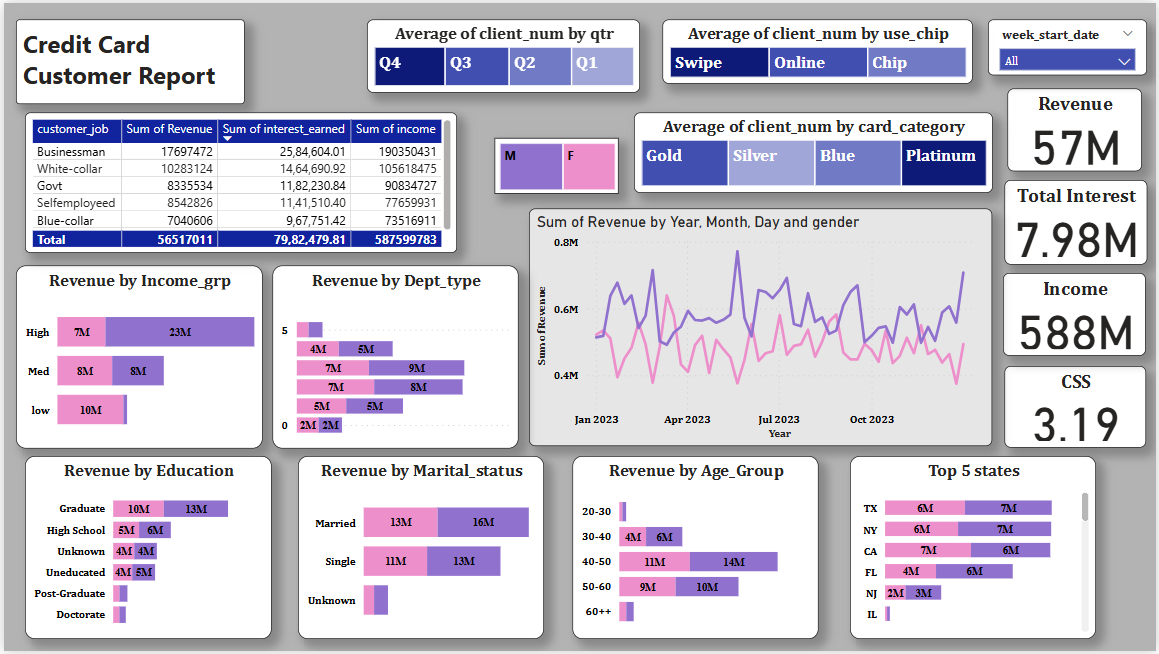

What the dashboard file says about the page in this screenshot:
{"tool":"powerbi","page":{"name":"cc_customer","canvas":[1280,720],"ordinal":2},"visuals":[{"type":"textbox","box":[12.7,19.1,254.3,93.8],"z":0},{"type":"barChart","title":"Revenue by Income_grp","fields":{"Category":["public cust_detail.IncomeGroup"],"Y":["Sum(public cc_detail.Revenue)"],"Series":["public cust_detail.gender"]},"box":[12.7,290.9,274,203.4],"z":1000},{"type":"card","title":"Revenue","fields":{"Values":["Sum(public cc_detail.Revenue)"]},"box":[1114.2,95.4,149.4,92.2],"z":2000},{"type":"card","title":"CSS","fields":{"Values":["Avg(public cust_detail.cust_satisfaction_score)"]},"box":[1111,403.7,157.4,90.6],"z":3000},{"type":"card","title":"Total Interest","fields":{"Values":["Sum(public cc_detail.interest_earned)"]},"box":[1111,197.1,158.9,93.8],"z":4000},{"type":"card","title":"Income","fields":{"Values":["Sum(public cust_detail.income)"]},"box":[1109.4,300.4,158.9,92.2],"z":5000},{"type":"slicer","fields":{"Values":["public cc_detail.week_start_date"]},"box":[1093.5,19.1,176.4,62],"z":6000},{"type":"treemap","fields":{"Group":["public cc_detail.card_category"],"Values":["Avg(public cc_detail.client_num)"]},"box":[699.3,122.4,398.9,89],"z":7000},{"type":"tableEx","fields":{"Values":["public cust_detail.customer_job","Sum(public cc_detail.Revenue)","Sum(public cc_detail.interest_earned)","Sum(public cust_detail.income)"]},"box":[23.8,122.4,480,155.8],"z":8000},{"type":"lineChart","fields":{"Y":["Sum(public cc_detail.Revenue)"],"Series":["public cust_detail.gender"],"Category":["public cc_detail.week_start_date.Variation.Date Hierarchy.Year","public cc_detail.week_start_date.Variation.Date Hierarchy.Month","public cc_detail.week_start_date.Variation.Date Hierarchy.Day"]},"box":[583.3,228.9,515,263.8],"z":9000},{"type":"treemap","fields":{"Group":["public cust_detail.gender"],"Values":["Sum(public cc_detail.Revenue)"]},"box":[545.2,149.4,138.3,62],"z":10000},{"type":"barChart","title":"Revenue by Age_Group","fields":{"Y":["Sum(public cc_detail.Revenue)"],"Category":["public cust_detail.AgeGroup"],"Series":["public cust_detail.gender"]},"box":[631,503.8,273.4,203.4],"z":11000},{"type":"barChart","title":"Revenue by Education","fields":{"Y":["Sum(public cc_detail.Revenue)"],"Category":["public cust_detail.education_level"],"Series":["public cust_detail.gender"]},"box":[23.8,503.8,274,203.4],"z":12000},{"type":"barChart","title":"Revenue by Dept_type","fields":{"Y":["Sum(public cc_detail.Revenue)"],"Category":["public cust_detail.dependent_count"],"Series":["public cust_detail.gender"]},"box":[298.8,290.9,273.4,203.4],"z":13000},{"type":"barChart","title":"Top 5 states","fields":{"Y":["Sum(public cc_detail.Revenue)"],"Category":["public cust_detail.state_cd"],"Series":["public cust_detail.gender"]},"box":[939.3,503.8,273.4,203.4],"z":14000},{"type":"barChart","title":"Revenue by Marital_status","fields":{"Y":["Sum(public cc_detail.Revenue)"],"Category":["public cust_detail.marital_status"],"Series":["public cust_detail.gender"]},"box":[327.4,503.8,273.4,203.4],"z":15000},{"type":"treemap","fields":{"Values":["Avg(public cc_detail.client_num)"],"Group":["public cc_detail.use_chip"]},"box":[731.1,19.1,344.9,71.5],"z":16000},{"type":"treemap","fields":{"Group":["public cc_detail.qtr"],"Values":["Avg(public cc_detail.client_num)"]},"box":[403.7,19.1,303.6,81.1],"z":17000}]}

Visuals, with their boxes in screenshot pixels (x1, y1, x2, y2), scaled from the page's 1280x720 canvas onto the 1159x654 screenshot:
textbox: 11/17/242/103
"Revenue by Income_grp" barChart: 11/264/260/449
"Revenue" card: 1009/87/1144/170
"CSS" card: 1006/367/1148/449
"Total Interest" card: 1006/179/1150/264
"Income" card: 1005/273/1148/357
slicer - public cc_detail.week_start_date: 990/17/1150/74
treemap - public cc_detail.card_category x Avg(public cc_detail.client_num): 633/111/994/192
tableEx - public cust_detail.customer_job x Sum(public cc_detail.Revenue): 22/111/456/253
lineChart - Sum(public cc_detail.Revenue) x public cust_detail.gender: 528/208/994/448
treemap - public cust_detail.gender x Sum(public cc_detail.Revenue): 494/136/619/192
"Revenue by Age_Group" barChart: 571/458/819/642
"Revenue by Education" barChart: 22/458/270/642
"Revenue by Dept_type" barChart: 271/264/518/449
"Top 5 states" barChart: 851/458/1098/642
"Revenue by Marital_status" barChart: 296/458/544/642
treemap - Avg(public cc_detail.client_num) x public cc_detail.use_chip: 662/17/974/82
treemap - public cc_detail.qtr x Avg(public cc_detail.client_num): 366/17/640/91
